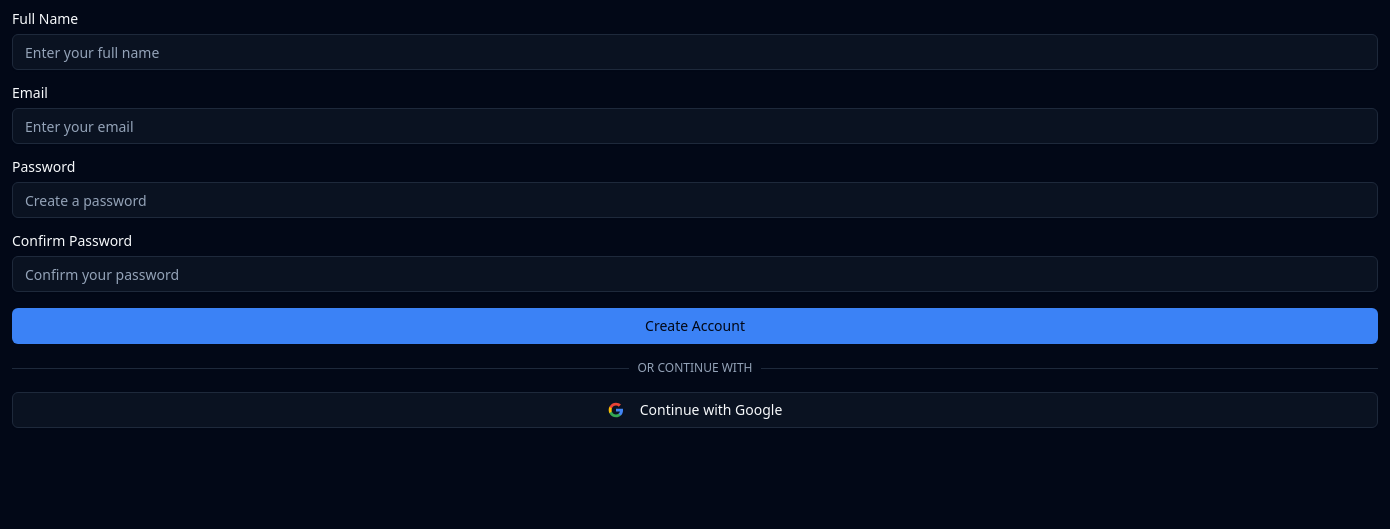
Scenario: SignUpForm › validates name field
The width and height of the screenshot is (1390, 529).
Type "A" into the field labelled "Full Name" at (695, 52), box x1=12 y1=34 x2=1378 y2=70
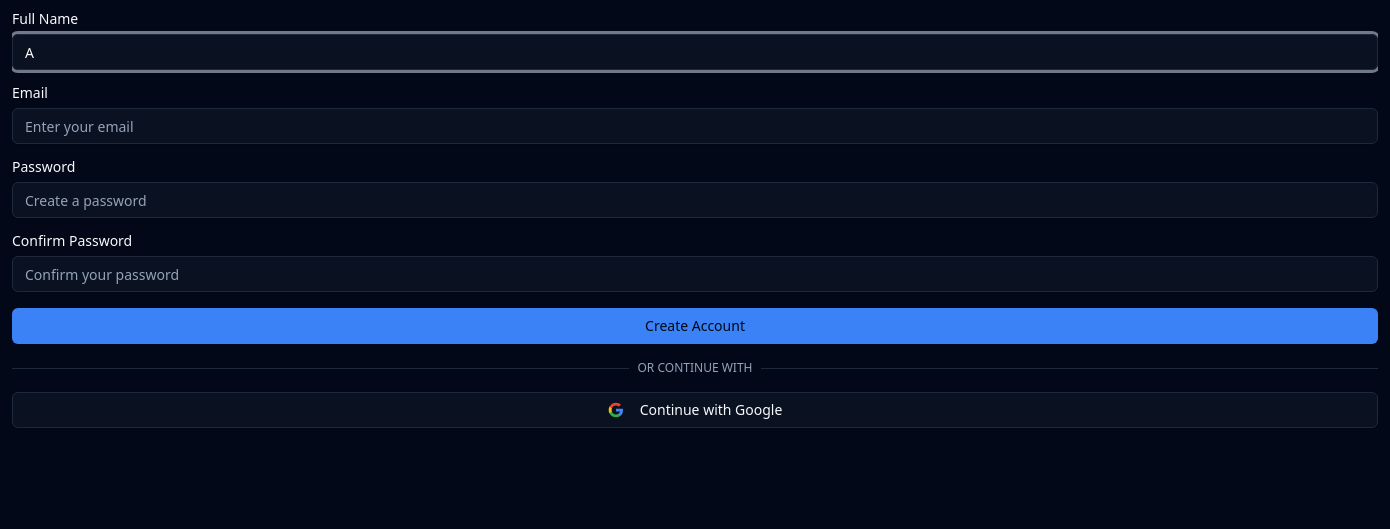
Click the button "Create Account" at (695, 326), box x1=12 y1=308 x2=1378 y2=344
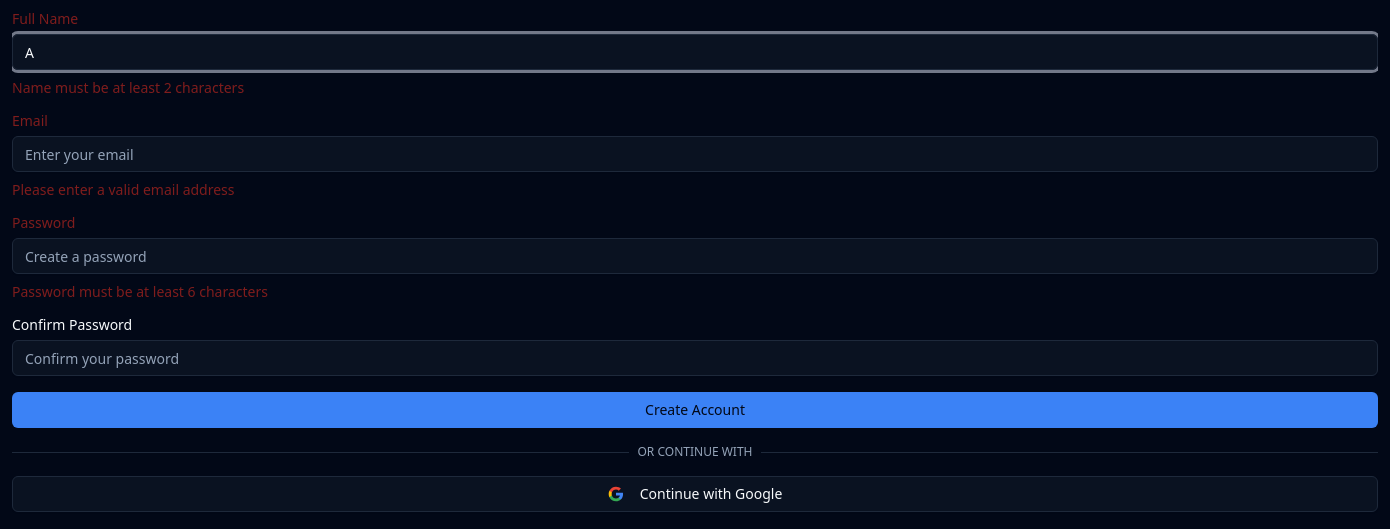
Expected: the text "Name must be at least 2 characters" is shown, x1=12 y1=78 x2=244 y2=97
